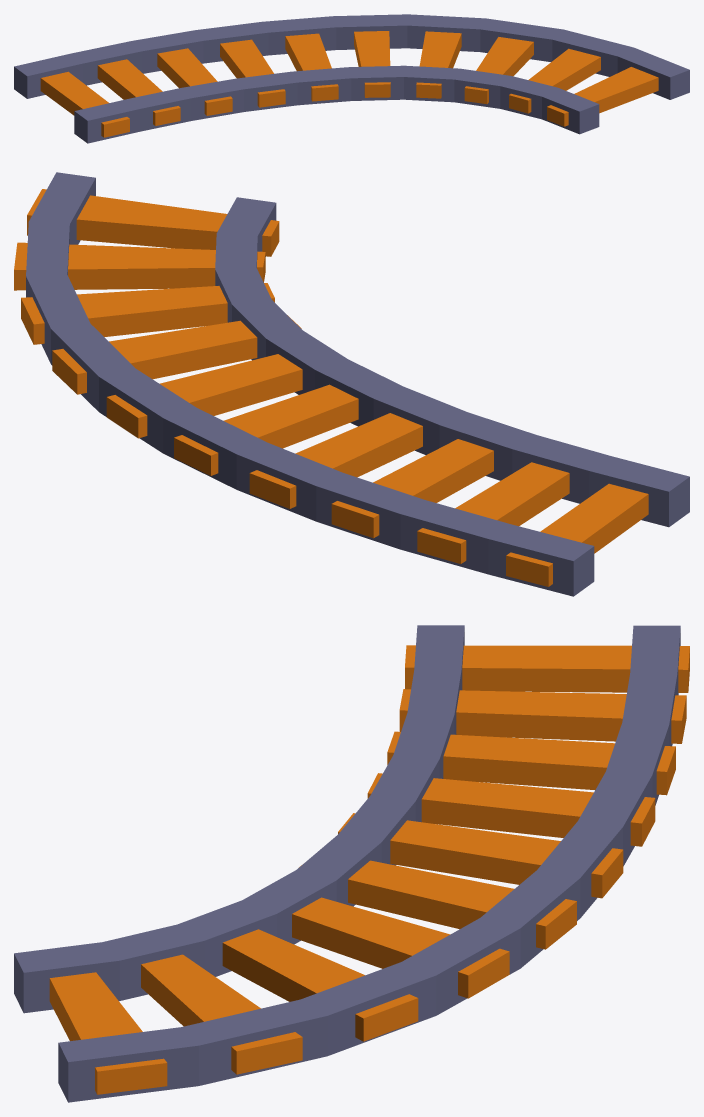
Rendered from Track_Curve1.fbx.
3 renders of one model, top to bottom at view 1: azimuth 30°, elevation 25°; view 2: azimuth 150°, elevation 25°; view 3: azimuth 270°, elevation 25°, orthographic. The views are drawn at different scales.
Visible parts, largest first — view 1: Track_Curve1; view 2: Track_Curve1; view 3: Track_Curve1.
Part boxes in pixels (x1,y1,x2,y2): Track_Curve1: [14, 14, 689, 143]; Track_Curve1: [14, 172, 689, 596]; Track_Curve1: [14, 625, 689, 1102].
Size of the model in its own units: 15.34 by 10.01 by 0.6609.
